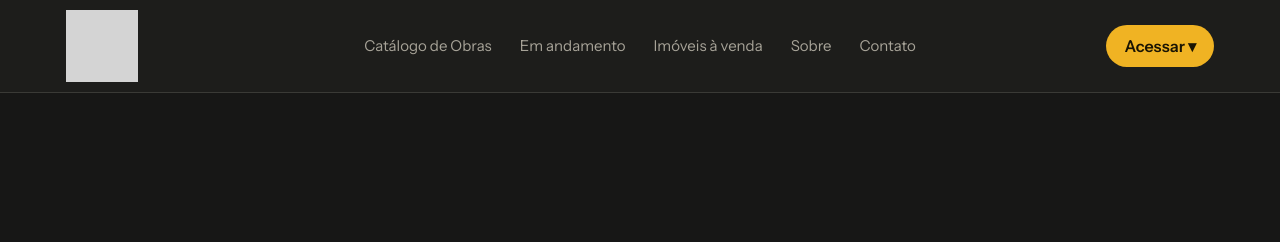
Test case: Header: menu Acessar › sem NEXT_PUBLIC_VDOCLUB_URL o VDO Club usa o endereço padrão
Click the button "Acessar ▾": {"x": 1160, "y": 46} [1106,25,1214,67]
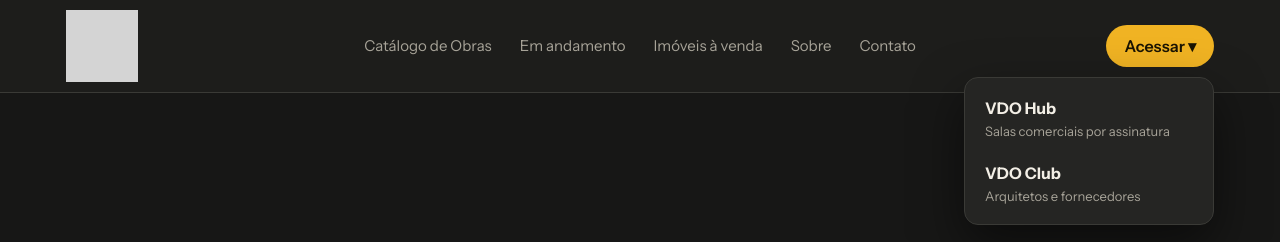
Now the text "VDO Hub" is shown, box [985,98,1056,118]
